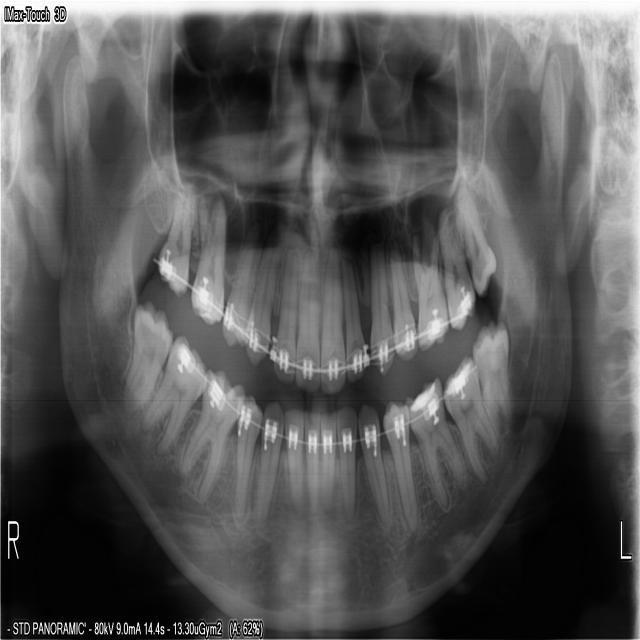LCD: (356, 397, 388, 527)
LCU: (367, 238, 393, 376)
LID: (336, 402, 356, 521), (318, 409, 335, 513)
LIU: (340, 244, 370, 385)
LMD: (442, 350, 499, 489), (408, 373, 466, 508), (470, 316, 513, 441)
LMU: (454, 180, 497, 299), (436, 203, 475, 334), (409, 230, 448, 353)
LPMD: (380, 398, 417, 533)
LPMU: (387, 243, 417, 361)
RCD: (254, 397, 282, 526)
RCU: (271, 246, 297, 386)
RID: (282, 405, 303, 518), (302, 407, 318, 516)
RIU: (293, 246, 321, 395), (319, 243, 345, 396)
RMD: (178, 365, 242, 503), (138, 330, 204, 456), (120, 296, 172, 414)
RMU: (188, 194, 225, 328), (155, 180, 192, 298), (219, 237, 256, 350)
RPMD: (231, 388, 261, 521)
RPMU: (242, 243, 277, 366)
